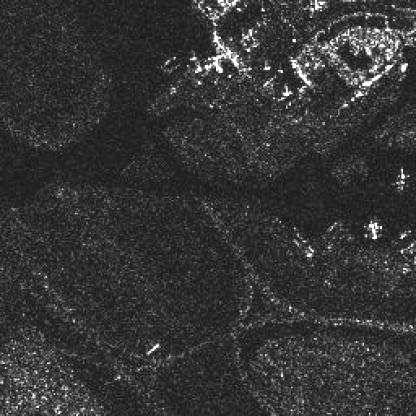airplane: (359, 215, 387, 242), (388, 166, 412, 193)
